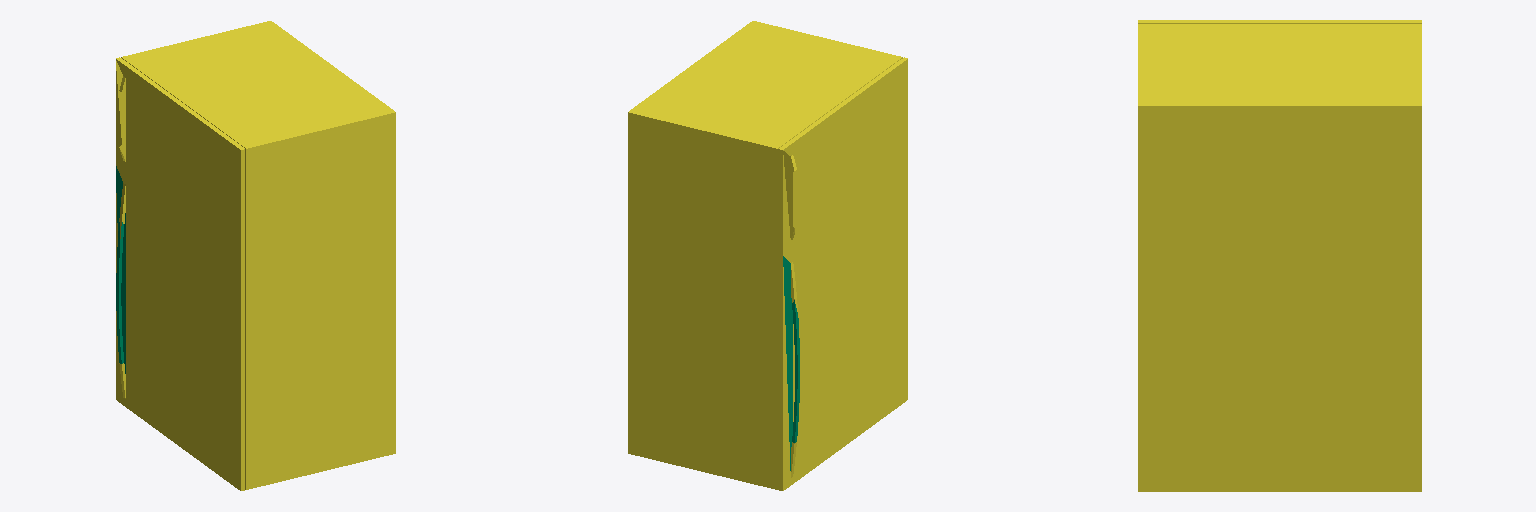
robot.urdf — partnet_6e5bf008a9259e95fa80fb391ee7ccee:
<?xml version="1.0" ?>
<robot name="partnet_6e5bf008a9259e95fa80fb391ee7ccee">
	<link name="base"/>
	<link name="link_0">
		<visual name="door_frame-4">
			<origin xyz="-0.583288 0.7074357553340201 -0.40198029863201046"/>
			<geometry>
				<mesh filename="textured_objs/new-1.obj"/>
			</geometry>
		</visual>
		<visual name="handle-5">
			<origin xyz="-0.583288 0.7074357553340201 -0.40198029863201046"/>
			<geometry>
				<mesh filename="textured_objs/new-0.obj"/>
			</geometry>
		</visual>
		<collision>
			<origin xyz="-0.583288 0.7074357553340201 -0.40198029863201046"/>
			<geometry>
				<mesh filename="textured_objs/new-1.obj"/>
			</geometry>
		</collision>
		<collision>
			<origin xyz="-0.583288 0.7074357553340201 -0.40198029863201046"/>
			<geometry>
				<mesh filename="textured_objs/new-0.obj"/>
			</geometry>
		</collision>
	</link>
	<joint name="joint_0" type="revolute">
		<origin xyz="0.583288 -0.7074357553340201 0.40198029863201046"/>
		<axis xyz="1 0 0"/>
		<child link="link_0"/>
		<parent link="link_2"/>
		<limit lower="0.0" upper="1.5707963267948966"/>
	</joint>
	<link name="link_1">
		<visual name="control_button-9">
			<origin xyz="-0.31998776946380403 -0.4652308722474998 -0.4700390000000001"/>
			<geometry>
				<mesh filename="textured_objs/new-2.obj"/>
			</geometry>
		</visual>
		<collision>
			<origin xyz="-0.31998776946380403 -0.4652308722474998 -0.4700390000000001"/>
			<geometry>
				<mesh filename="textured_objs/new-2.obj"/>
			</geometry>
		</collision>
	</link>
	<joint name="joint_1" type="fixed">
		<origin xyz="0.31998776946380403 0.4652308722474998 0.4700390000000001"/>
		<axis xyz="0 0 -1"/>
		<child link="link_1"/>
		<parent link="link_2"/>
		<limit lower="0" upper="0.052000000000000046"/>
	</joint>
	<link name="link_2">
		<visual name="surface-14">
			<origin xyz="0 0 0"/>
			<geometry>
				<mesh filename="textured_objs/new-5.obj"/>
			</geometry>
		</visual>
		<visual name="frame-2">
			<origin xyz="0 0 0"/>
			<geometry>
				<mesh filename="textured_objs/new-6.obj"/>
			</geometry>
		</visual>
		<visual name="frame-2">
			<origin xyz="0 0 0"/>
			<geometry>
				<mesh filename="textured_objs/original-1.obj"/>
			</geometry>
		</visual>
		<visual name="display_panel-10">
			<origin xyz="0 0 0"/>
			<geometry>
				<mesh filename="textured_objs/new-3.obj"/>
			</geometry>
		</visual>
		<visual name="control_panel-11">
			<origin xyz="0 0 0"/>
			<geometry>
				<mesh filename="textured_objs/new-4.obj"/>
			</geometry>
		</visual>
		<collision>
			<origin xyz="0 0 0"/>
			<geometry>
				<mesh filename="textured_objs/new-5.obj"/>
			</geometry>
		</collision>
		<collision>
			<origin xyz="0 0 0"/>
			<geometry>
				<mesh filename="textured_objs/new-6.obj"/>
			</geometry>
		</collision>
		<collision>
			<origin xyz="0 0 0"/>
			<geometry>
				<mesh filename="textured_objs/original-1.obj"/>
			</geometry>
		</collision>
		<collision>
			<origin xyz="0 0 0"/>
			<geometry>
				<mesh filename="textured_objs/new-3.obj"/>
			</geometry>
		</collision>
		<collision>
			<origin xyz="0 0 0"/>
			<geometry>
				<mesh filename="textured_objs/new-4.obj"/>
			</geometry>
		</collision>
	</link>
	<joint name="joint_2" type="fixed">
		<origin rpy="1.570796326794897 0 -1.570796326794897" xyz="0 0 0"/>
		<child link="link_2"/>
		<parent link="base"/>
	</joint>
</robot>

--- Facts derived from the render (not from the file) ---
3 views of the same robot in one strip: view 1: azimuth 30°, elevation 25°; view 2: azimuth 150°, elevation 25°; view 3: azimuth 270°, elevation 25° (orthographic).
Robot: partnet_6e5bf008a9259e95fa80fb391ee7ccee — 4 links, 3 joints (1 revolute, 2 fixed); root link base; default pose: every joint at zero.
Links seen in each view (by area): view 1: link_2, link_1; view 2: link_2, link_1; view 3: link_2.
Boxes of the visible links, x1=… form: link_2: x1=116, y1=21, x2=395, y2=490; link_1: x1=116, y1=166, x2=125, y2=373; link_2: x1=628, y1=21, x2=907, y2=490; link_1: x1=783, y1=256, x2=799, y2=470; link_2: x1=1138, y1=20, x2=1421, y2=491.
Bounding box of the posed robot: 0.777 × 1.04 × 1.57 m (x, y, z).
5 mesh visuals loaded from 8 distinct referenced files (5 OBJ); not drawn: 3 (reference not matched to a file when rendering).